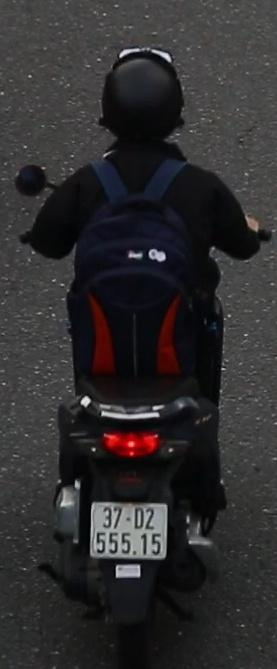LP: (88, 494, 172, 565)
helmet: (95, 46, 191, 163)
